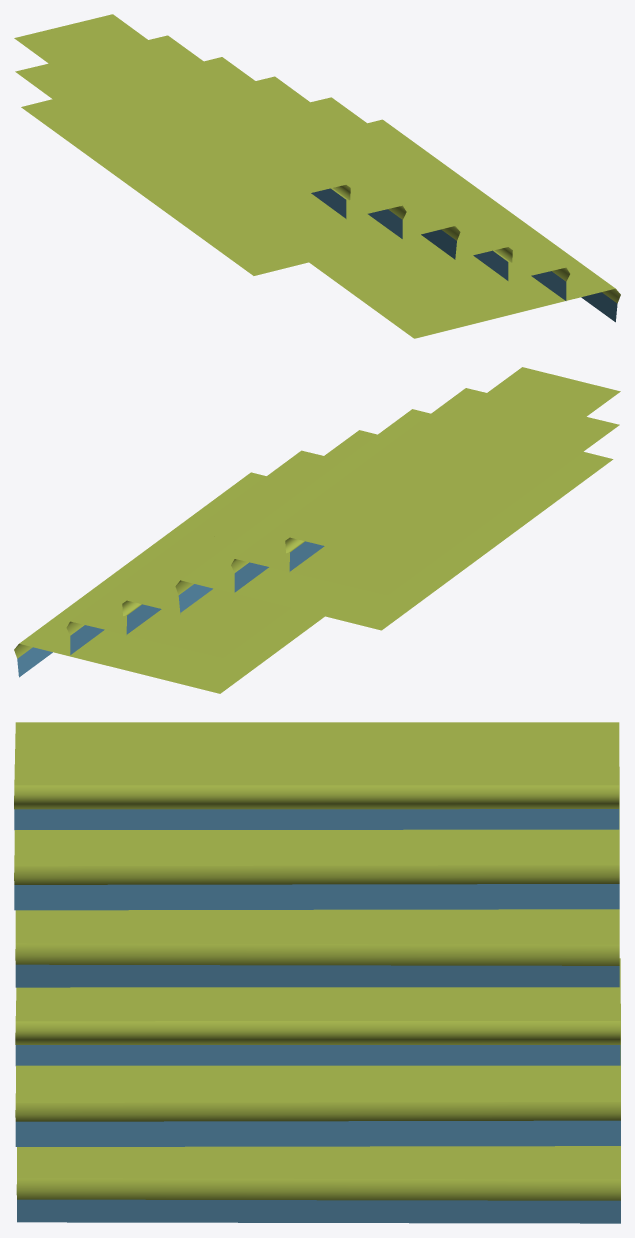
The model's file is ModuleSci_C_stairs_01.FBX.
The picture shows the model from 3 angles, top to bottom: view 1: azimuth 30°, elevation 25°; view 2: azimuth 150°, elevation 25°; view 3: azimuth 270°, elevation 25°; orthographic projection. The views are drawn at different scales.
Parts seen in each view (by area): view 1: Module_sci_stair_051, Module_sci_stair_053, Module_sci_stair_052, Module_sci_stair_050, Module_sci_stair_049, Module_sci_stair_048; view 2: Module_sci_stair_051, Module_sci_stair_053, Module_sci_stair_052, Module_sci_stair_050, Module_sci_stair_049, Module_sci_stair_048; view 3: Module_sci_stair_051, Module_sci_stair_049, Module_sci_stair_052, Module_sci_stair_048, Module_sci_stair_053, Module_sci_stair_050.
Boxes of the visible parts, left/top/right/bottom form: Module_sci_stair_051: left=14, top=14, right=350, bottom=218; Module_sci_stair_053: left=21, top=57, right=460, bottom=275; Module_sci_stair_052: left=15, top=35, right=406, bottom=241; Module_sci_stair_050: left=309, top=119, right=620, bottom=338; Module_sci_stair_049: left=311, top=97, right=569, bottom=303; Module_sci_stair_048: left=256, top=76, right=512, bottom=280; Module_sci_stair_051: left=285, top=367, right=620, bottom=571; Module_sci_stair_053: left=175, top=409, right=613, bottom=630; Module_sci_stair_052: left=231, top=388, right=619, bottom=594; Module_sci_stair_050: left=14, top=472, right=324, bottom=693; Module_sci_stair_049: left=66, top=450, right=323, bottom=657; Module_sci_stair_048: left=122, top=430, right=377, bottom=634; Module_sci_stair_051: left=14, top=722, right=619, bottom=829; Module_sci_stair_049: left=15, top=1004, right=620, bottom=1146; Module_sci_stair_052: left=14, top=767, right=619, bottom=910; Module_sci_stair_048: left=15, top=958, right=620, bottom=1065; Module_sci_stair_053: left=15, top=909, right=619, bottom=987; Module_sci_stair_050: left=16, top=1146, right=620, bottom=1223.
Size of the model in its own units: 37.66 by 19.77 by 40.7.
